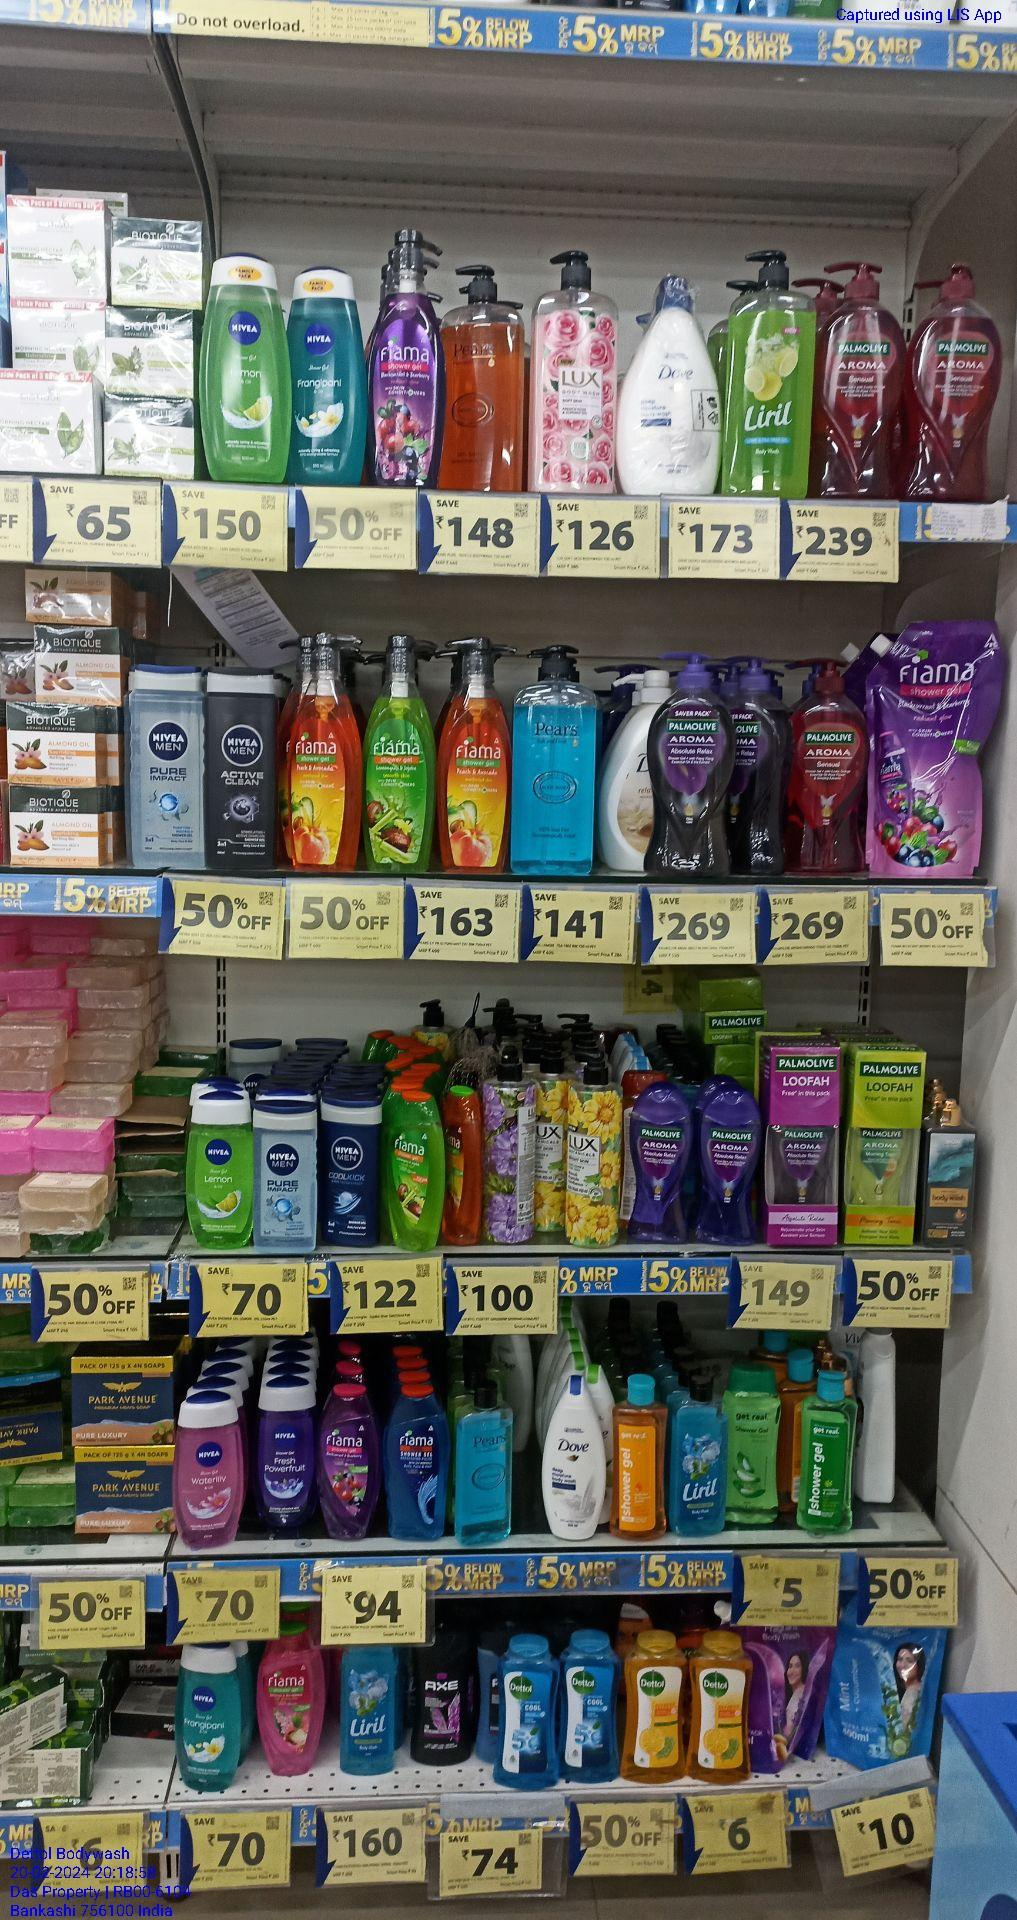Dove_Deep_Moisture_Body_Wash_250ML: (540, 1374, 608, 1542)
Fiama_Shower_Gel_Lemongrass_and_Jojoba_250ML: (383, 1090, 443, 1253)
Liril_Cooling_Mint_Body_Wash_250ML: (670, 1375, 726, 1535)
Nivea_Shower_Gel_Frangipani_and_Oil_250ML: (289, 263, 368, 483)
Nivea_Shower_Gel_Fresh_Powerfruit_250ML: (250, 1374, 316, 1531)
Nivea_Shower_Gel_Lemon_and_Oil_250ML: (198, 250, 292, 484), (183, 1090, 255, 1250)
Nivea_Shower_Gel_Waterlily_and_Oil_250ML: (171, 1388, 246, 1550)
Palmolive_Aroma_Relax_250ML: (623, 1084, 693, 1244), (695, 1087, 762, 1248)
Pears_Pure_Glycerin_and_Mint_Extracts_Body_Wash_250ML: (452, 1380, 515, 1550)
